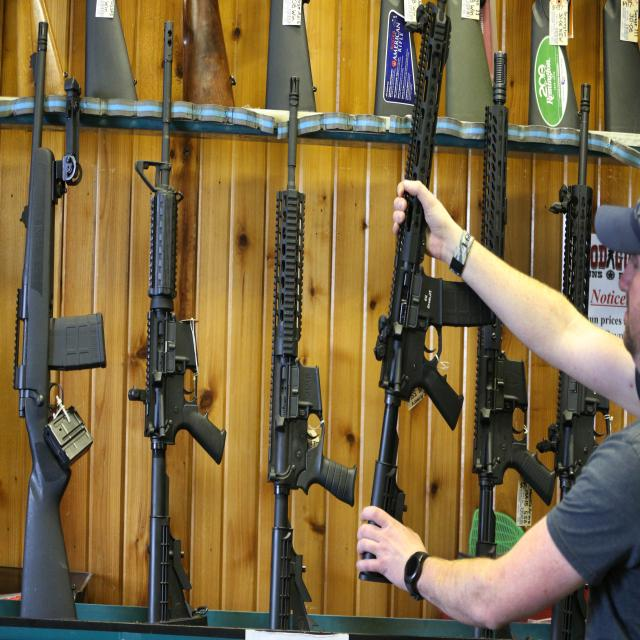Rifle: (371, 0, 493, 525), (129, 22, 226, 625), (13, 22, 106, 625), (267, 77, 357, 634)
